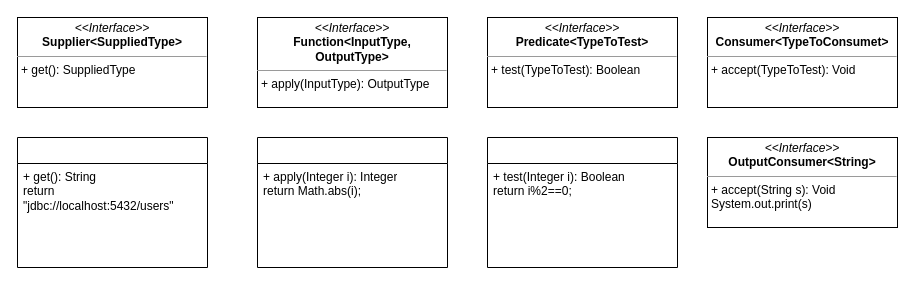
Some shapes in this 915 by 288 pixel diagram are drawn without their labels. The box of each missing label's shape, as (x1, y1, x2, y2) in pixels:
AbsoluteFunction<Integer,Integer>: (256, 136, 448, 268)
DBConnectionSupplier<String>: (16, 136, 208, 268)
IsOddPredicate<Integer>: (486, 136, 678, 268)
